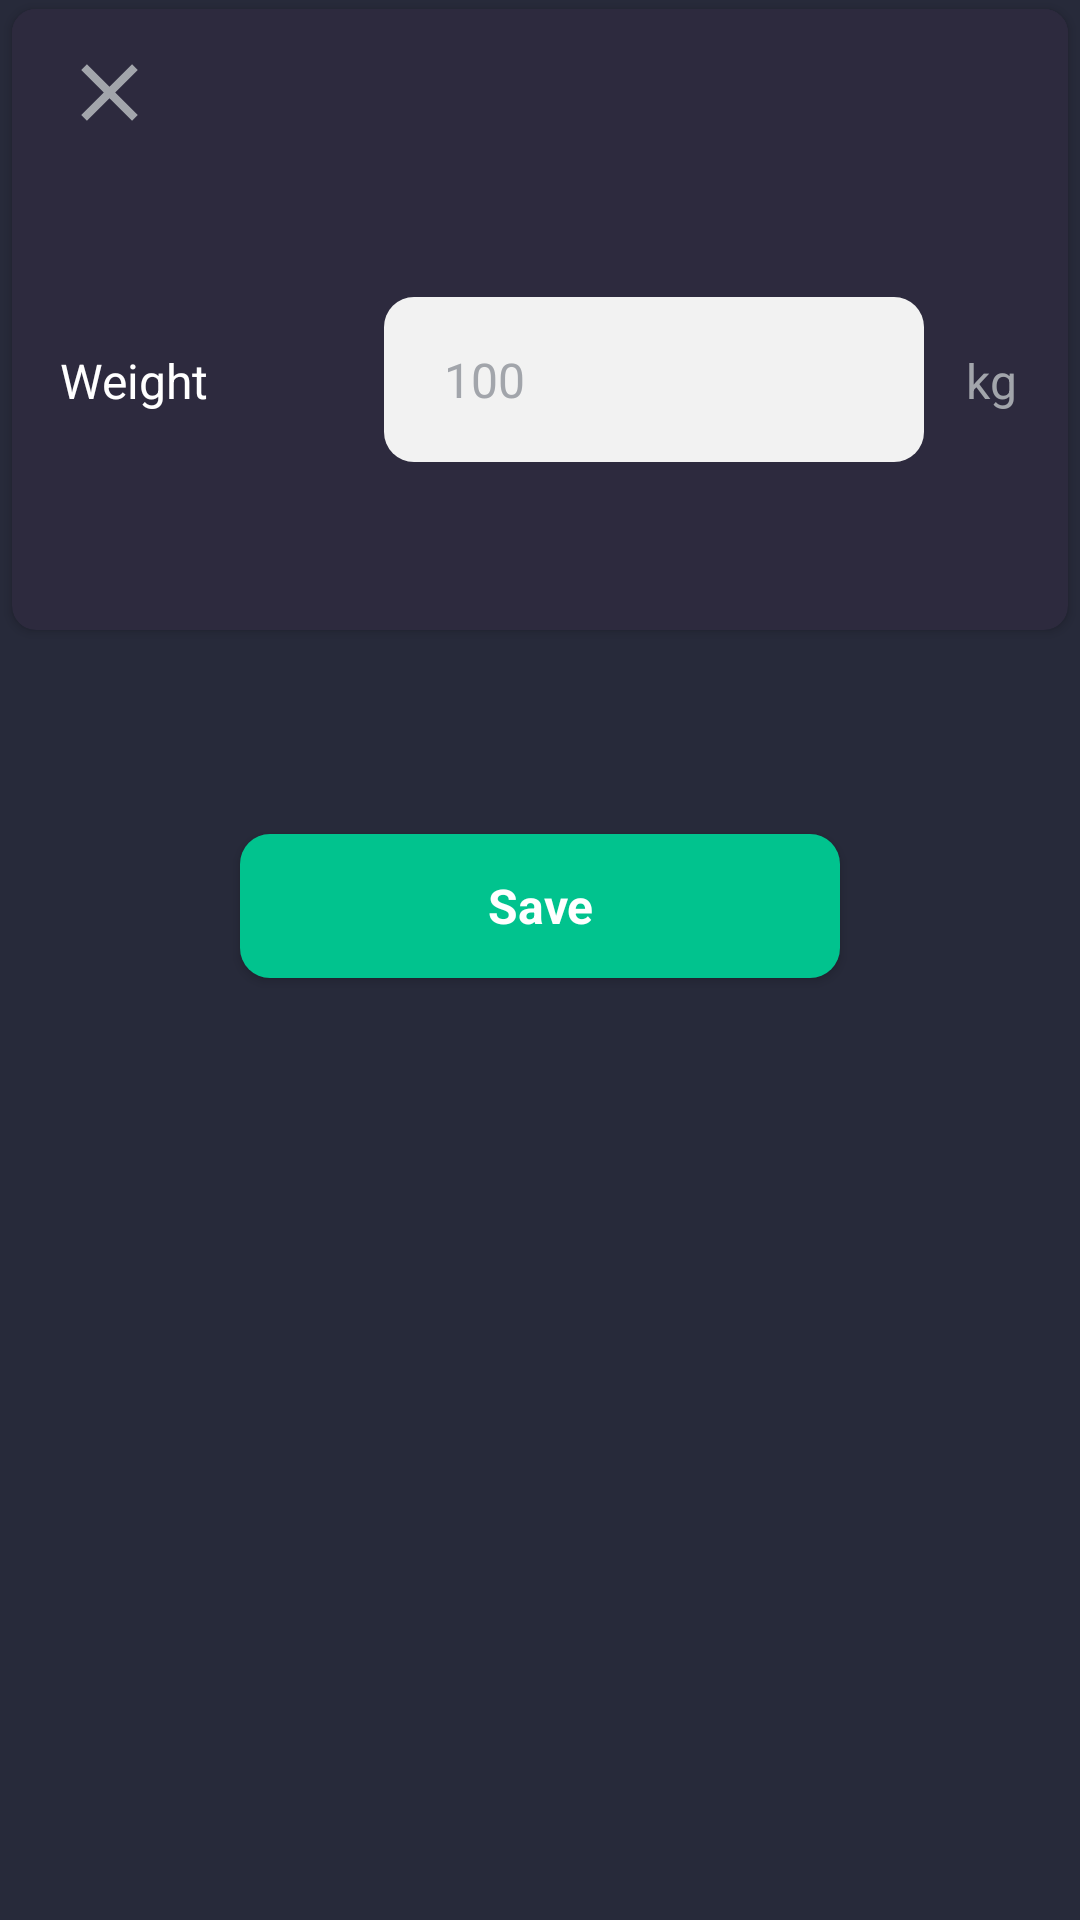

Point at icon controls on the screen. Image size 1080×1920, points as point (x, y).
close: point (109, 92)
